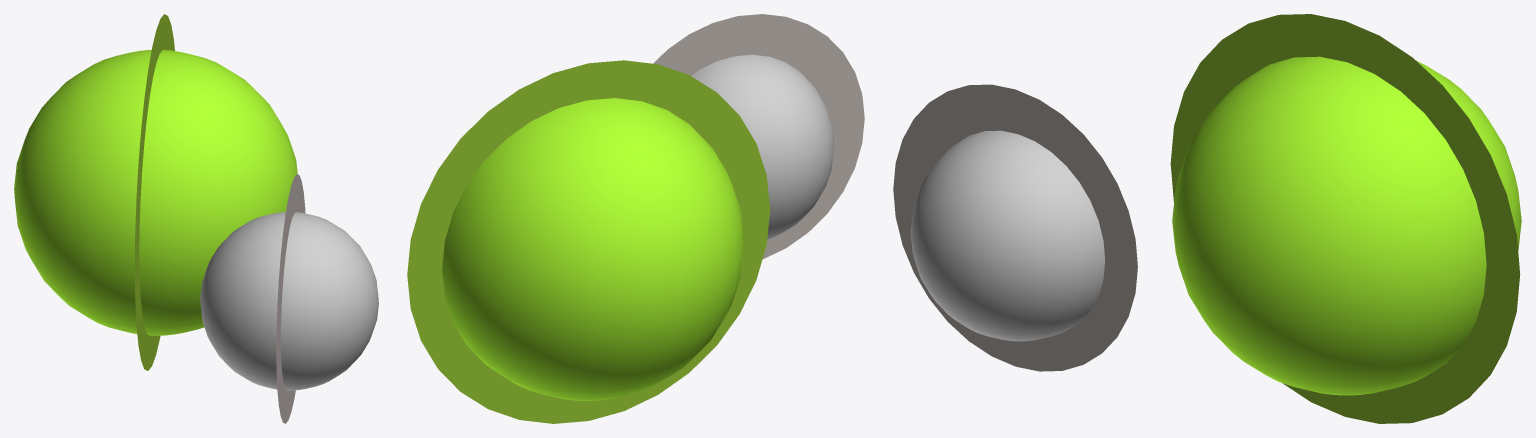
The model's file is NaCl_Molecule.fbx.
The picture shows the model from 3 angles, left to right: view 1: azimuth 30°, elevation 25°; view 2: azimuth 150°, elevation 25°; view 3: azimuth 270°, elevation 25°; orthographic projection. The views are drawn at different scales.
Visible parts, largest first — view 1: Sphere.001, Sphere, Sphere.003, Sphere.002; view 2: Sphere.001, Sphere.003, Sphere, Sphere.002; view 3: Sphere.001, Sphere, Sphere.003, Sphere.002.
Part boxes in pixels (x1,y1,x2,y2): Sphere.001: [14, 50, 297, 335]; Sphere: [200, 212, 378, 390]; Sphere.003: [134, 14, 174, 370]; Sphere.002: [276, 174, 305, 423]; Sphere.001: [442, 98, 743, 400]; Sphere.003: [407, 60, 770, 423]; Sphere: [691, 54, 834, 239]; Sphere.002: [653, 14, 864, 258]; Sphere.001: [1172, 56, 1521, 395]; Sphere: [910, 130, 1118, 341]; Sphere.003: [1170, 14, 1520, 423]; Sphere.002: [893, 84, 1137, 371].
Bounding box in the file's own units: 320 × 400 × 575.
